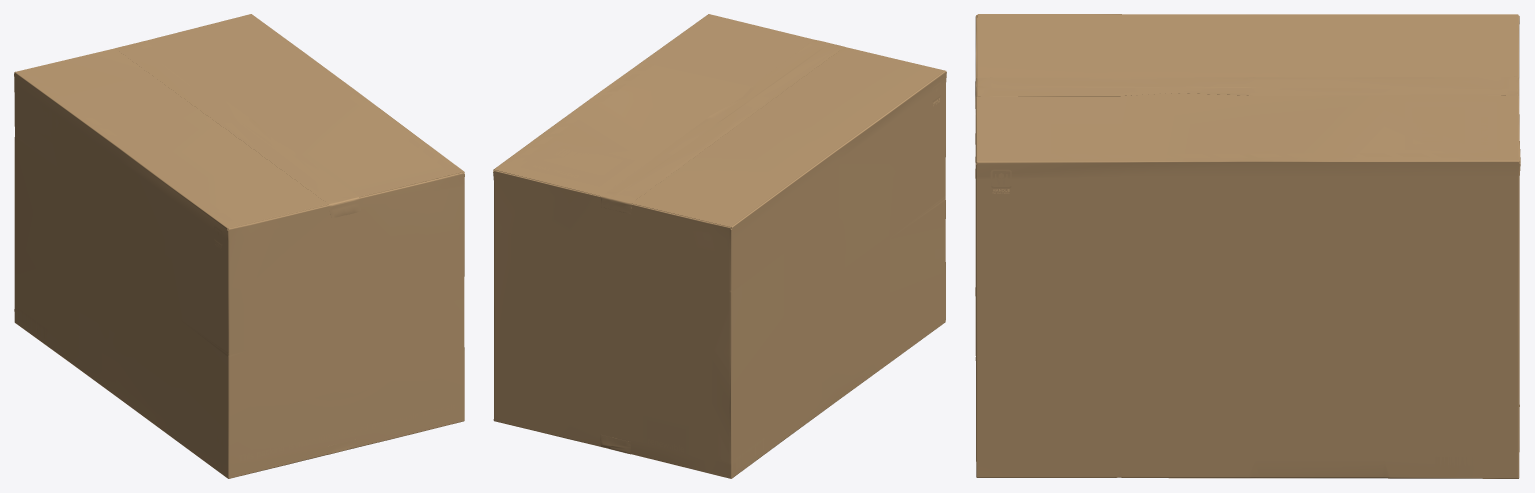
Rendered from box_corrugated_brown_b19.glb.
3 renders of one model, left to right at view 1: azimuth 30°, elevation 25°; view 2: azimuth 150°, elevation 25°; view 3: azimuth 270°, elevation 25°, orthographic. The views are drawn at different scales.
Size of the model in its own units: 0.299 by 0.3019 by 0.4674.
